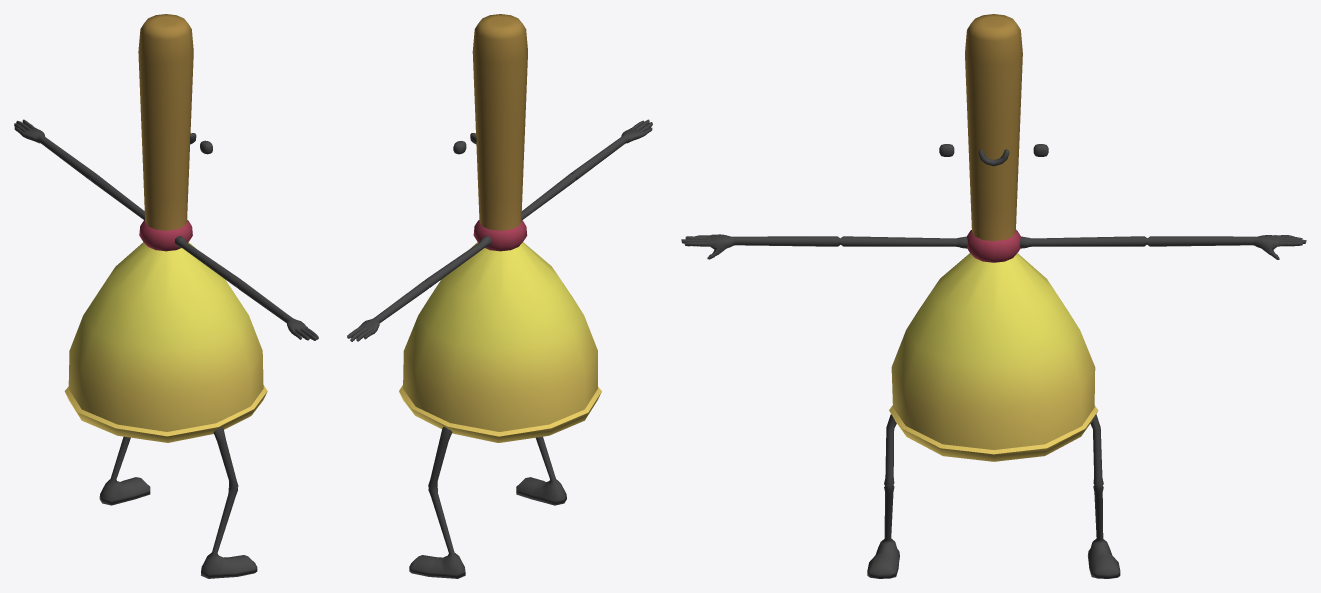
File: CoolBell.fbx
3 views of the same model, side by side, from view 1: azimuth 30°, elevation 25°; view 2: azimuth 150°, elevation 25°; view 3: azimuth 270°, elevation 25° (orthographic). The views are drawn at different scales.
Visible parts, largest first — view 1: _100Avatars_197_CoolBell; view 2: _100Avatars_197_CoolBell; view 3: _100Avatars_197_CoolBell.
Part boxes in pixels (x1,y1,x2,y2): _100Avatars_197_CoolBell: (14,14,318,578); _100Avatars_197_CoolBell: (347,14,652,578); _100Avatars_197_CoolBell: (681,14,1306,578).
Bounding box in the file's own units: 1.2 × 3.37 × 3.54.
Materials: 1 (1 with a texture image).
